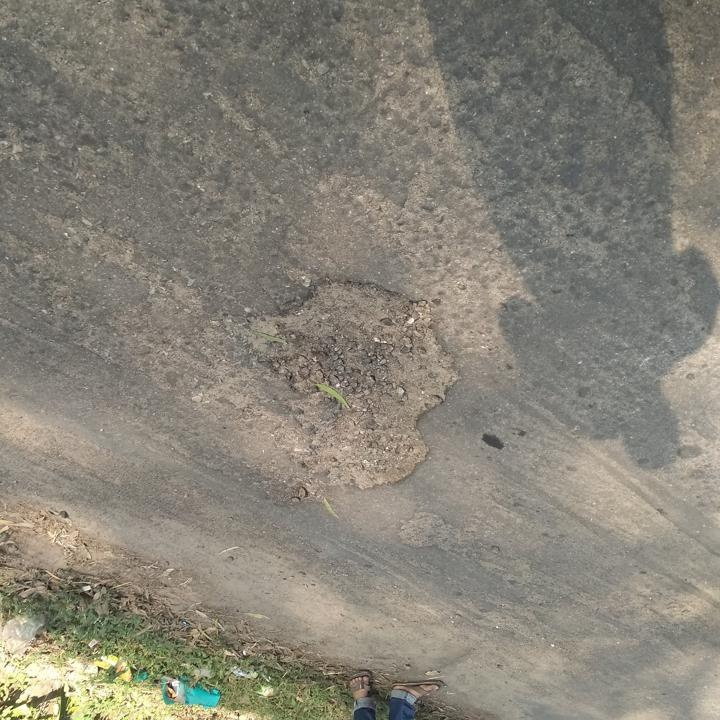pothole: (237, 273, 464, 501), (396, 509, 462, 553)
